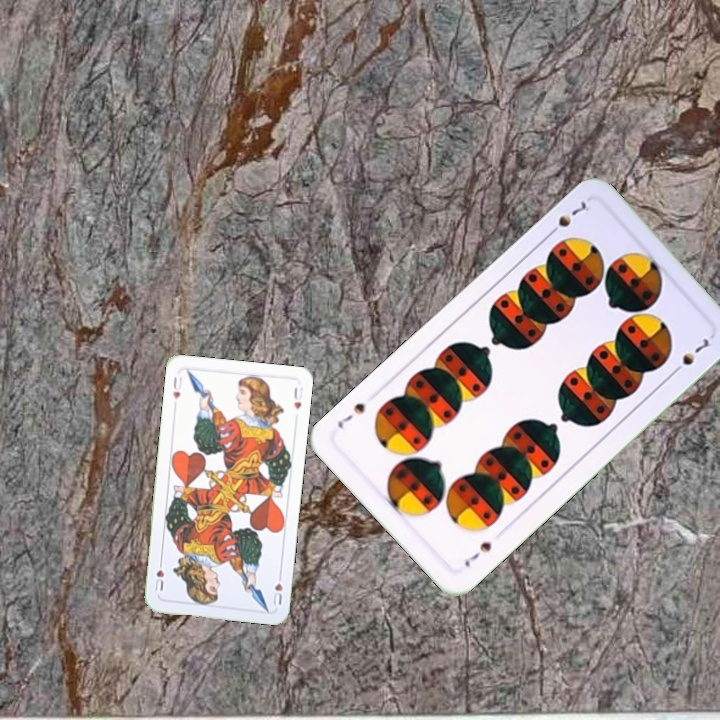HU: (269, 569, 285, 608), (169, 373, 185, 402)
S7: (543, 196, 590, 240), (460, 537, 494, 570)
